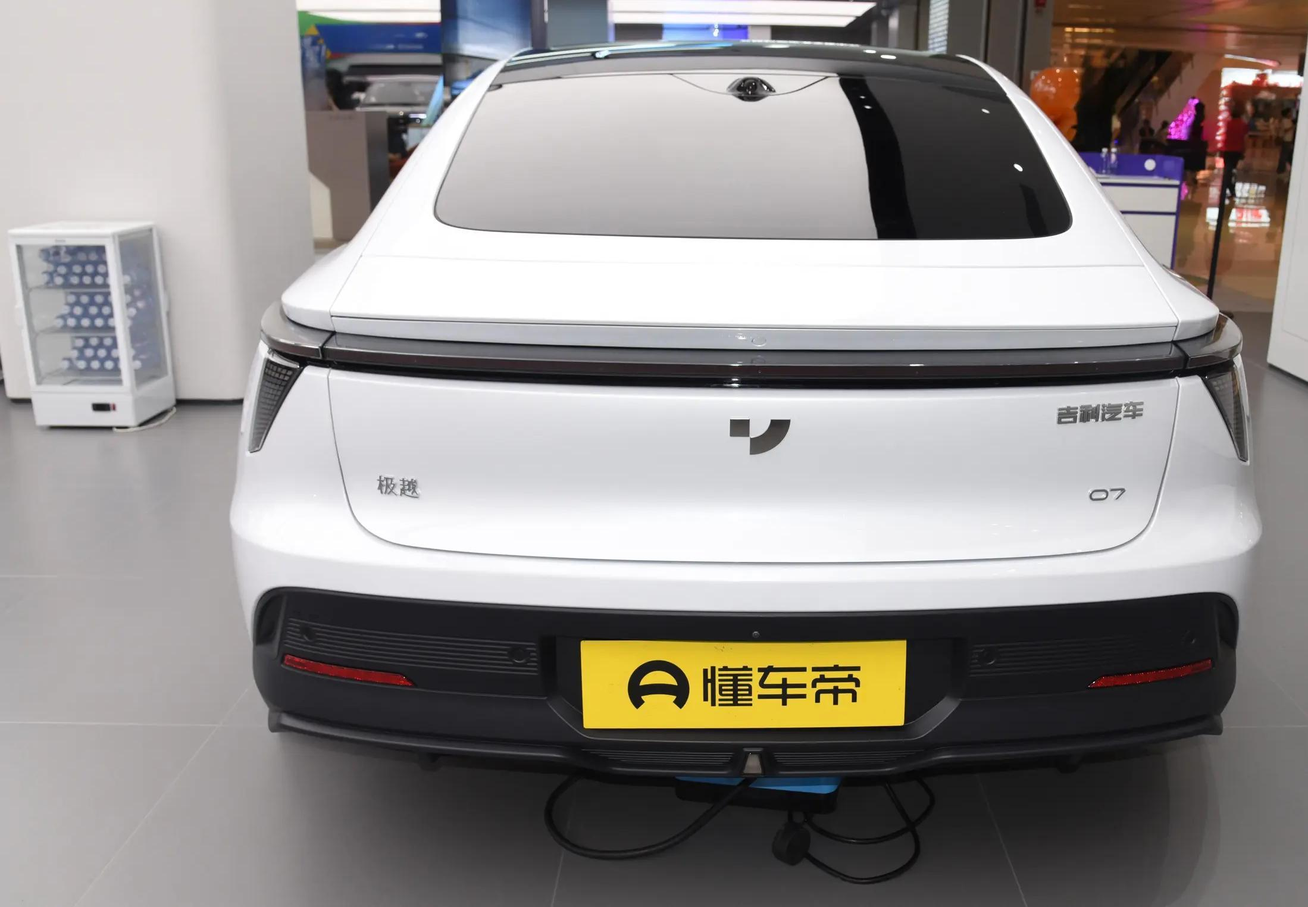JIYUE: (730, 417, 791, 455)
